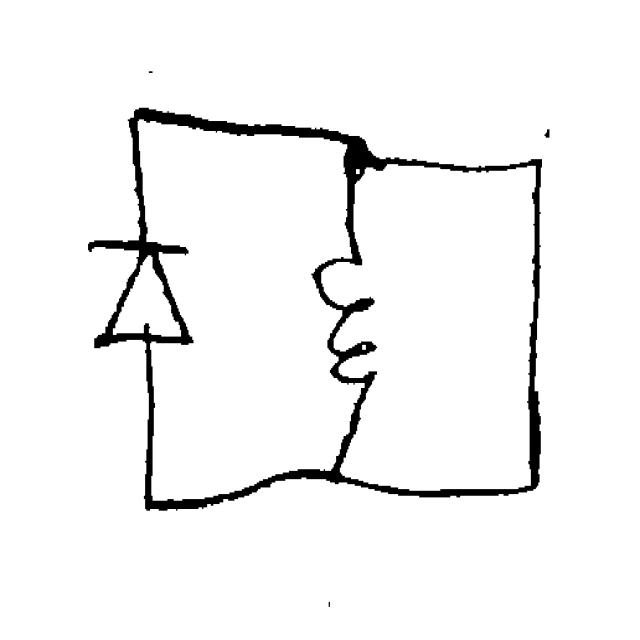diode: (72, 218, 200, 357)
inductor: (305, 238, 396, 397)
